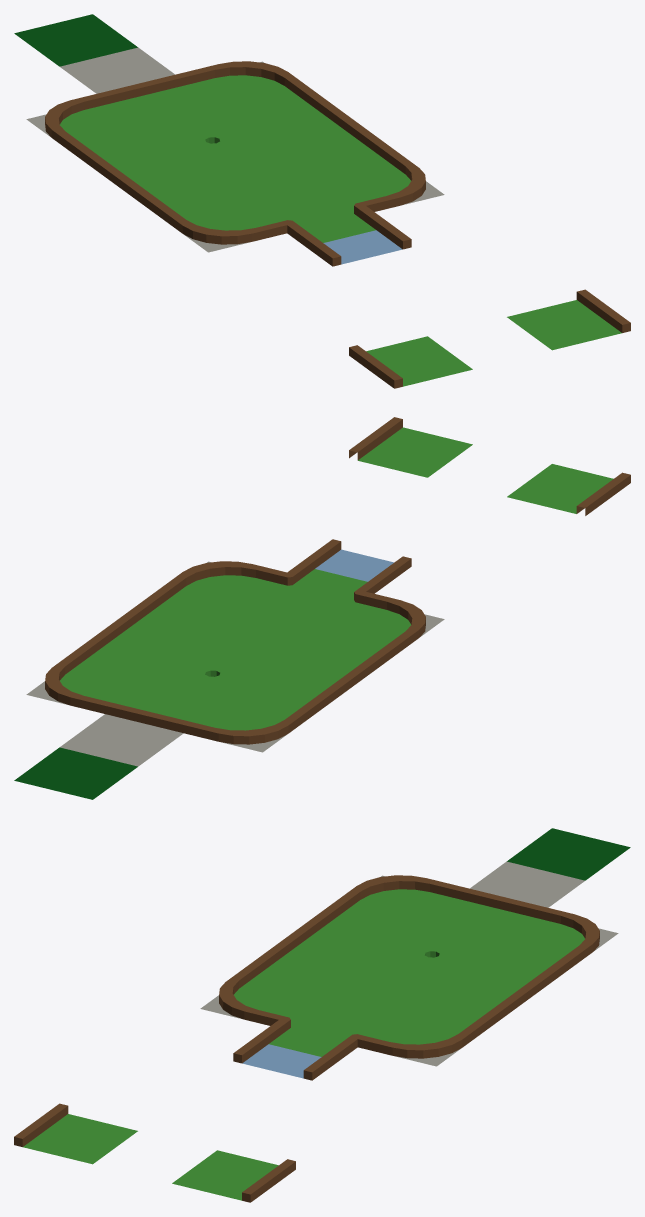
File: golfdemoassets2.fbx
3 views of the same model, one above another, from view 1: azimuth 30°, elevation 25°; view 2: azimuth 150°, elevation 25°; view 3: azimuth 330°, elevation 25° (orthographic).
Parts seen in each view (by area): view 1: GolfPlaneCorner.001, GolfPlaneRim.004, GolfStartingArea1, GolfPlaneRimEndRight, GolfPlaneRim.001, GolfPlaneRim, GolfPlaneCorner, GolfPlaneCorner.002, GolfPlaneCorner.003, GolfPlaneRimEndLeft, GolfPlaneRim.002, GolfPlaneRim.003 (+5 smaller); view 2: GolfPlaneCorner.003, GolfPlaneRimEndRight, GolfPlaneRim, GolfPlaneRim.001, GolfStartingArea1, GolfPlaneCorner.002, GolfPlaneCorner.001, GolfPlaneCorner, GolfPlaneInnerCorner, GolfPlaneRimEndLeft, GolfPlaneRim.003, GolfPlaneRim.002 (+5 smaller); view 3: GolfPlaneCorner, GolfPlaneRim.004, GolfStartingArea1, GolfPlaneRimEndLeft, GolfPlaneRim.002, GolfPlaneRim.003, GolfPlaneCorner.001, GolfPlaneCorner.003, GolfPlaneCorner.002, GolfPlaneRimEndRight, GolfPlaneRim.001, GolfPlaneRim (+5 smaller).
Part boxes in pixels (x1,y1,x2,y2): GolfPlaneCorner.001: (184, 61, 307, 113); GolfPlaneRim.004: (105, 72, 228, 133); GolfStartingArea1: (287, 206, 411, 266); GolfPlaneRimEndRight: (507, 289, 630, 350); GolfPlaneRim.001: (229, 86, 353, 147); GolfPlaneRim: (275, 120, 398, 180); GolfPlaneCorner: (26, 92, 149, 152); GolfPlaneCorner.002: (162, 200, 287, 252); GolfPlaneCorner.003: (321, 153, 444, 211); GolfPlaneRimEndLeft: (349, 336, 472, 388); GolfPlaneRim.002: (71, 133, 195, 185); GolfPlaneRim.003: (117, 167, 240, 218); GolfPlaneCorner.003: (163, 561, 286, 613); GolfPlaneRimEndRight: (349, 417, 472, 477); GolfPlaneRim: (117, 586, 241, 647); GolfPlaneRim.001: (72, 620, 195, 680); GolfStartingArea1: (287, 539, 411, 596); GolfPlaneCorner.002: (321, 592, 444, 652); GolfPlaneCorner.001: (26, 653, 149, 713); GolfPlaneCorner: (184, 700, 308, 752); GolfPlaneInnerCorner: (242, 572, 365, 633); GolfPlaneRimEndLeft: (507, 464, 630, 515); GolfPlaneRim.003: (275, 633, 399, 685); GolfPlaneRim.002: (230, 666, 353, 718); GolfPlaneCorner: (337, 875, 460, 927); GolfPlaneRim.004: (416, 886, 539, 947); GolfStartingArea1: (233, 1020, 357, 1080); GolfPlaneRimEndLeft: (14, 1103, 137, 1164); GolfPlaneRim.002: (291, 900, 415, 961); GolfPlaneRim.003: (246, 934, 369, 994); GolfPlaneCorner.001: (495, 906, 618, 966); GolfPlaneCorner.003: (357, 1014, 482, 1066); GolfPlaneCorner.002: (200, 967, 323, 1025); GolfPlaneRimEndRight: (172, 1150, 295, 1202); GolfPlaneRim.001: (449, 947, 573, 999); GolfPlaneRim: (404, 981, 527, 1032).
Size of the model in its own units: 300 by 19.28 by 1009.
